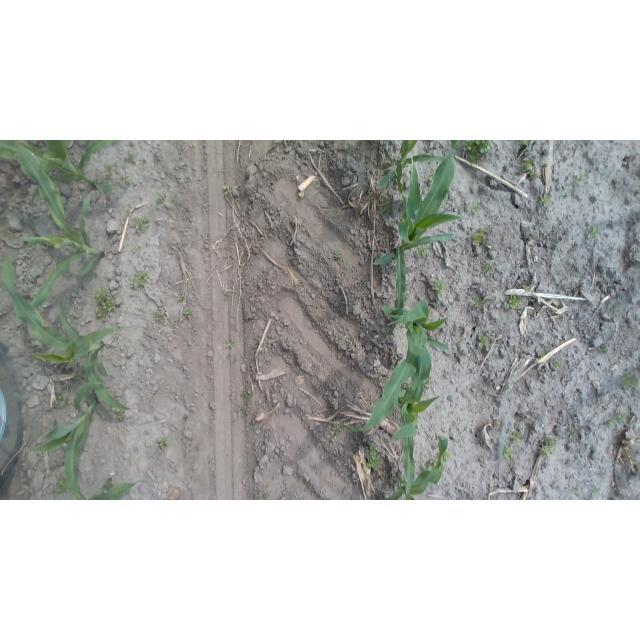Maize: (1, 252, 132, 420), (342, 244, 451, 430), (8, 144, 106, 324), (372, 148, 459, 268), (23, 399, 101, 500), (0, 140, 116, 198), (389, 419, 452, 500), (390, 334, 433, 444), (374, 140, 451, 190), (75, 478, 142, 500)
Weeds: (91, 284, 117, 324), (459, 141, 494, 166), (470, 227, 492, 250), (368, 444, 385, 473), (327, 419, 343, 446), (521, 158, 539, 181), (620, 372, 640, 391), (50, 477, 71, 495), (133, 268, 150, 290), (541, 434, 558, 456), (432, 278, 447, 302), (608, 409, 628, 427), (496, 442, 514, 462), (503, 295, 525, 311), (134, 213, 151, 233), (250, 486, 274, 500), (240, 383, 257, 401), (235, 401, 252, 418), (508, 429, 524, 447), (475, 333, 491, 349), (124, 149, 139, 166), (574, 172, 591, 186), (585, 225, 600, 240), (157, 435, 171, 451), (151, 308, 167, 322), (414, 245, 430, 259), (480, 261, 496, 275), (520, 282, 536, 296), (422, 457, 438, 471), (118, 174, 132, 189), (57, 393, 71, 407), (168, 189, 180, 205), (465, 204, 481, 216), (103, 164, 116, 178), (539, 193, 552, 207), (155, 189, 166, 205), (443, 449, 454, 465), (470, 298, 487, 308), (183, 306, 194, 321), (332, 247, 343, 262), (559, 182, 569, 198), (113, 409, 125, 422), (221, 288, 232, 302), (246, 422, 256, 437), (222, 183, 234, 195), (566, 428, 578, 440), (224, 338, 236, 350), (548, 358, 560, 368), (519, 140, 532, 149), (422, 376, 430, 390), (590, 488, 602, 497), (133, 243, 143, 253), (602, 347, 611, 356), (572, 488, 582, 496), (635, 464, 640, 476), (427, 174, 433, 183), (539, 352, 545, 360)
